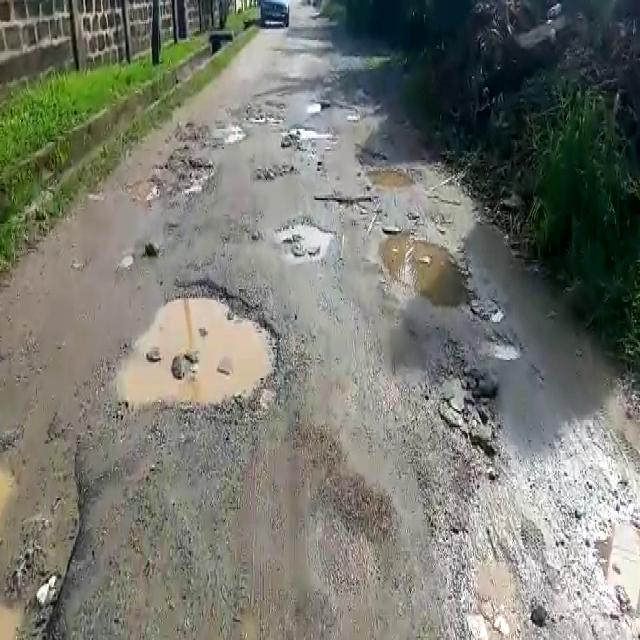Pothole: (119, 278, 295, 417), (0, 424, 83, 638), (376, 227, 477, 309), (127, 148, 211, 214), (275, 214, 335, 259), (316, 192, 380, 217), (364, 166, 418, 193), (278, 125, 337, 148)
